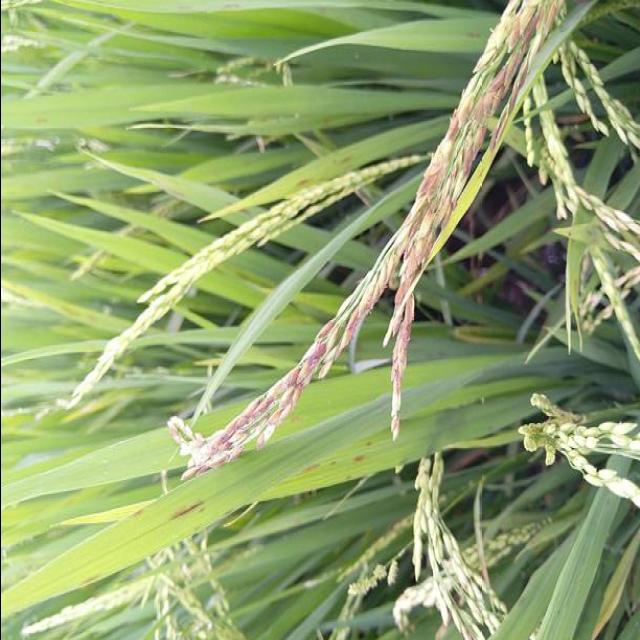Panicle Blight: (168, 0, 544, 481)
